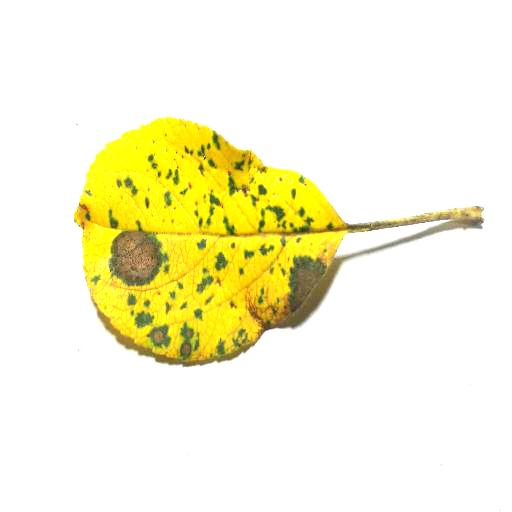Brown_Spot: (96, 222, 164, 293), (248, 292, 287, 334), (286, 265, 315, 302), (182, 331, 196, 362), (153, 329, 166, 348)
